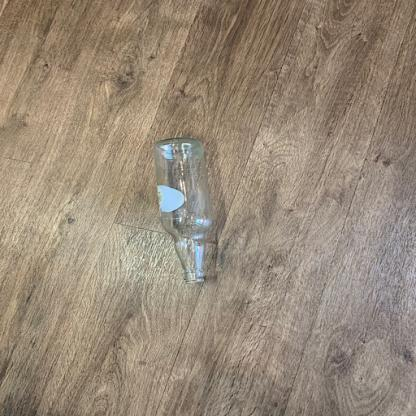trash: (152, 136, 218, 288)
